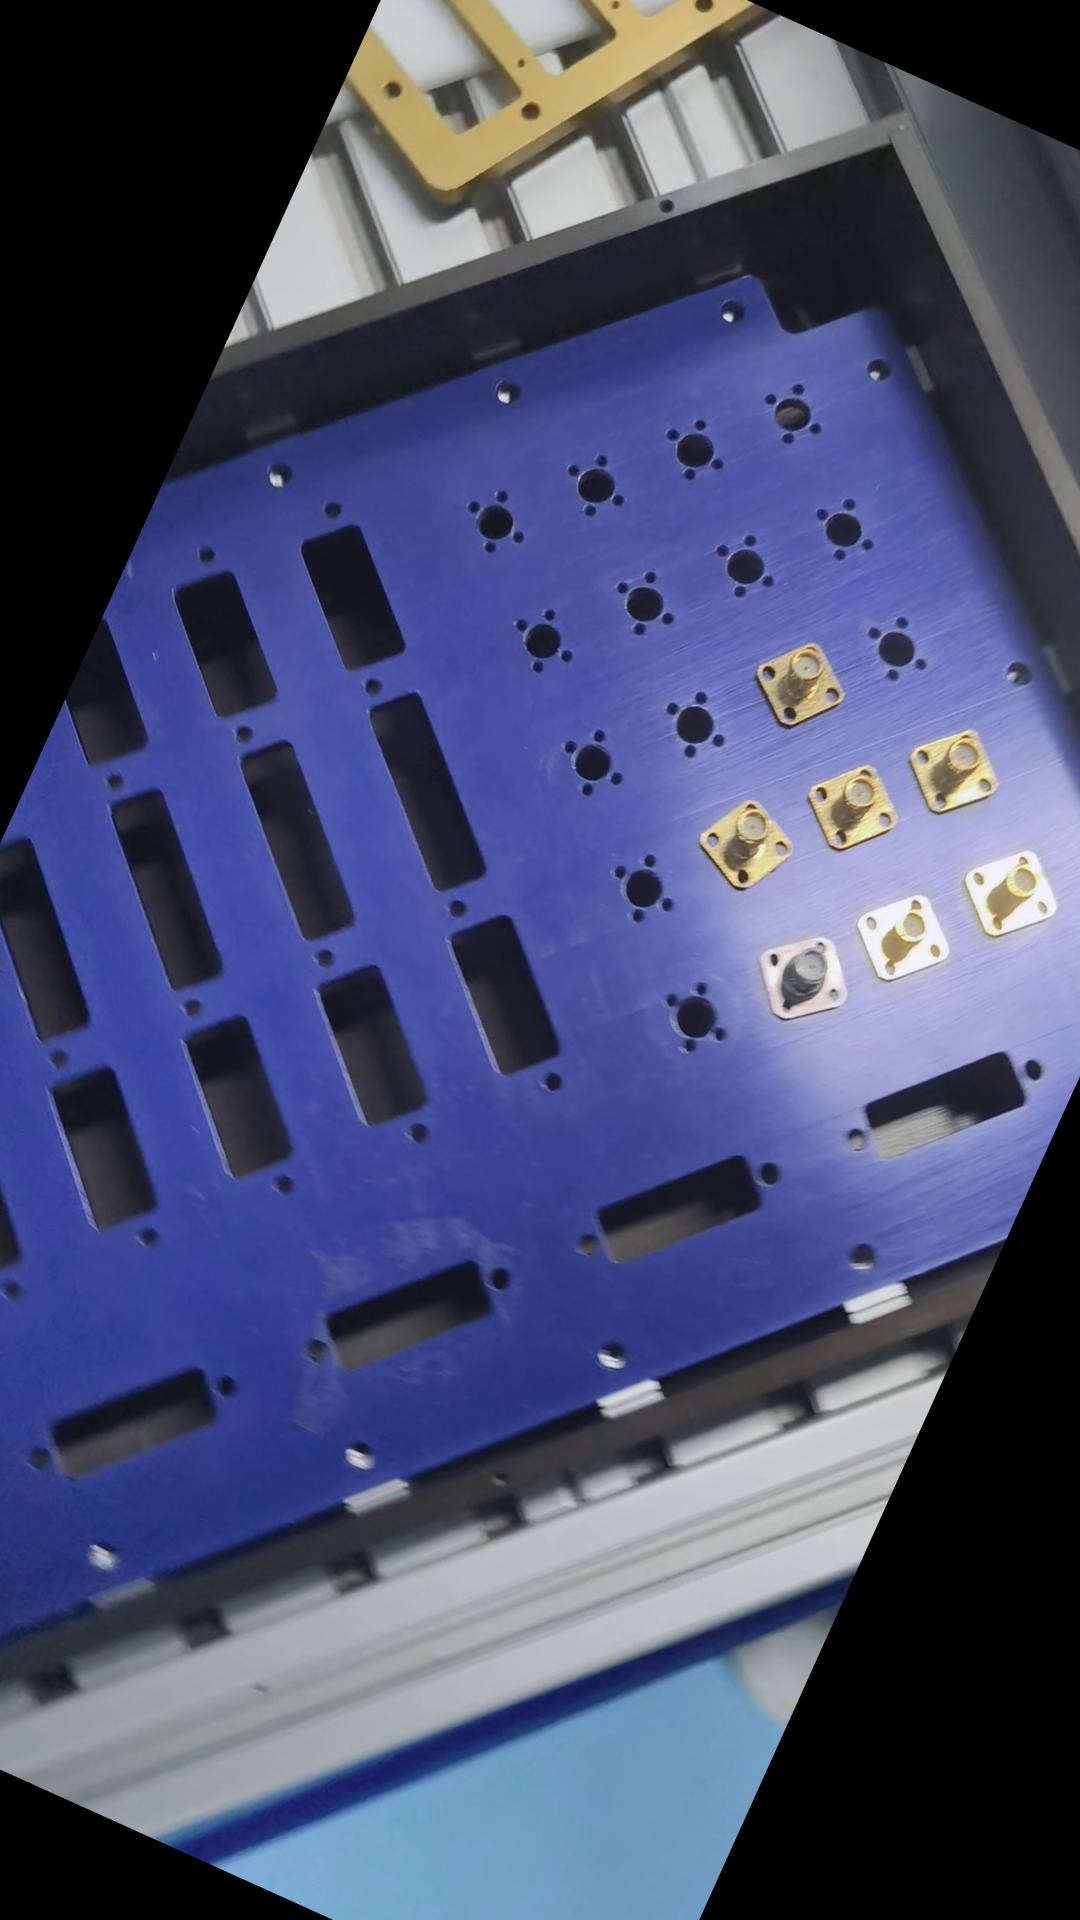SMA: (945, 827, 1076, 955), (740, 909, 866, 1033), (786, 742, 909, 866), (837, 873, 963, 994), (893, 709, 1014, 829), (683, 782, 803, 899), (740, 622, 858, 738)
